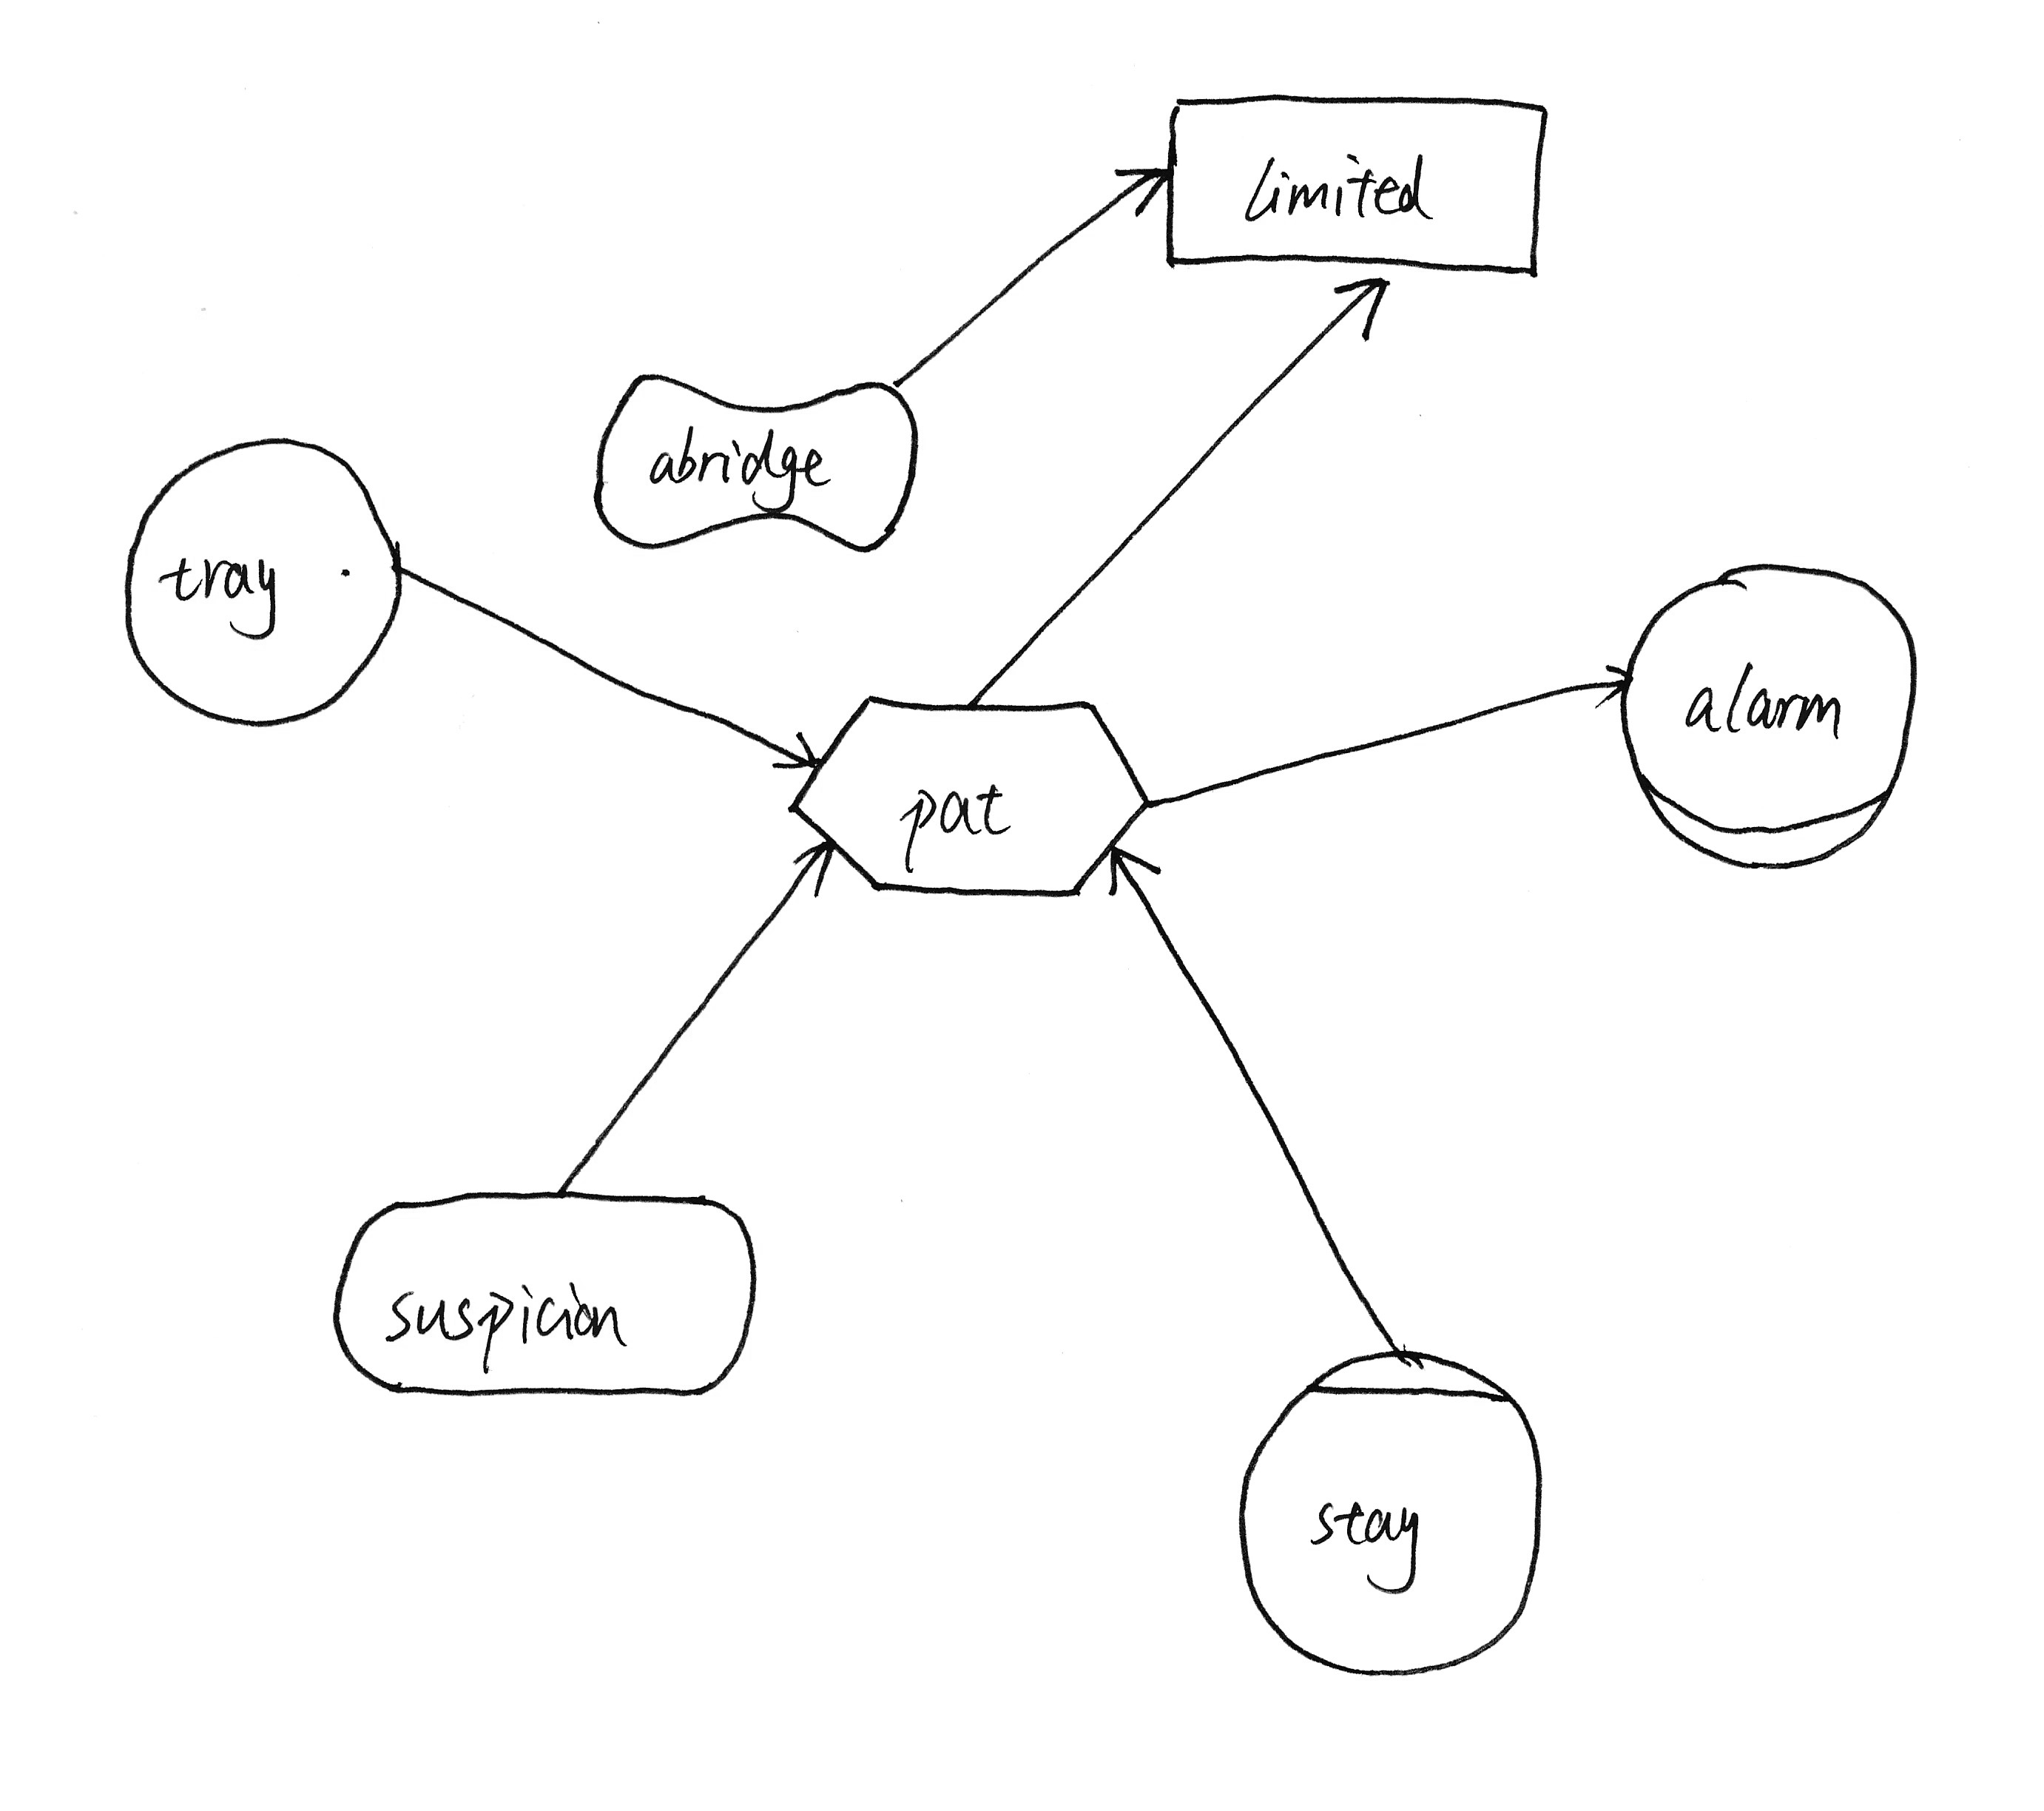actor: (114, 423, 418, 739)
agent: (1224, 1332, 1563, 1690)
arrow: (1322, 262, 1406, 351), (778, 832, 852, 916), (1102, 836, 1178, 904), (1109, 152, 1177, 226), (1584, 645, 1640, 715), (766, 718, 824, 783)
goal: (320, 1175, 780, 1409)
quality: (581, 351, 939, 579)
resource: (1154, 80, 1577, 295)
role: (1605, 544, 1932, 881)
task: (778, 678, 1161, 911)
